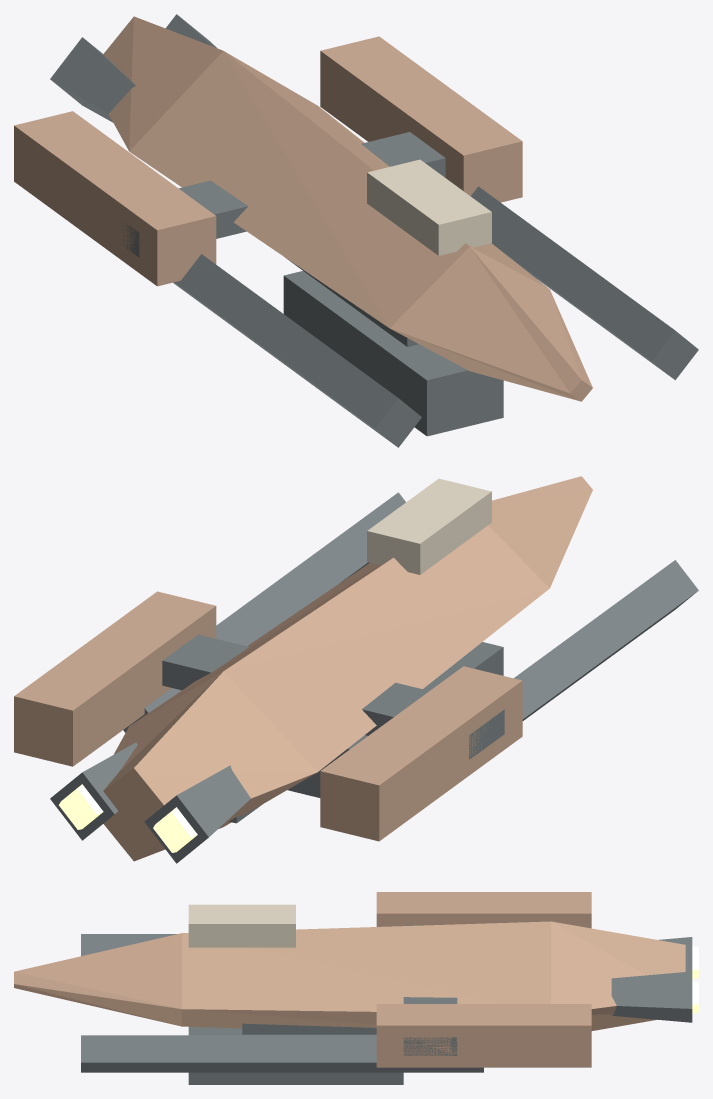
3 renders of one model, top to bottom at view 1: azimuth 30°, elevation 25°; view 2: azimuth 150°, elevation 25°; view 3: azimuth 270°, elevation 25°, orthographic. The views are drawn at different scales.
Size of the model in its own units: 2.33 by 1.27 by 5.05.
